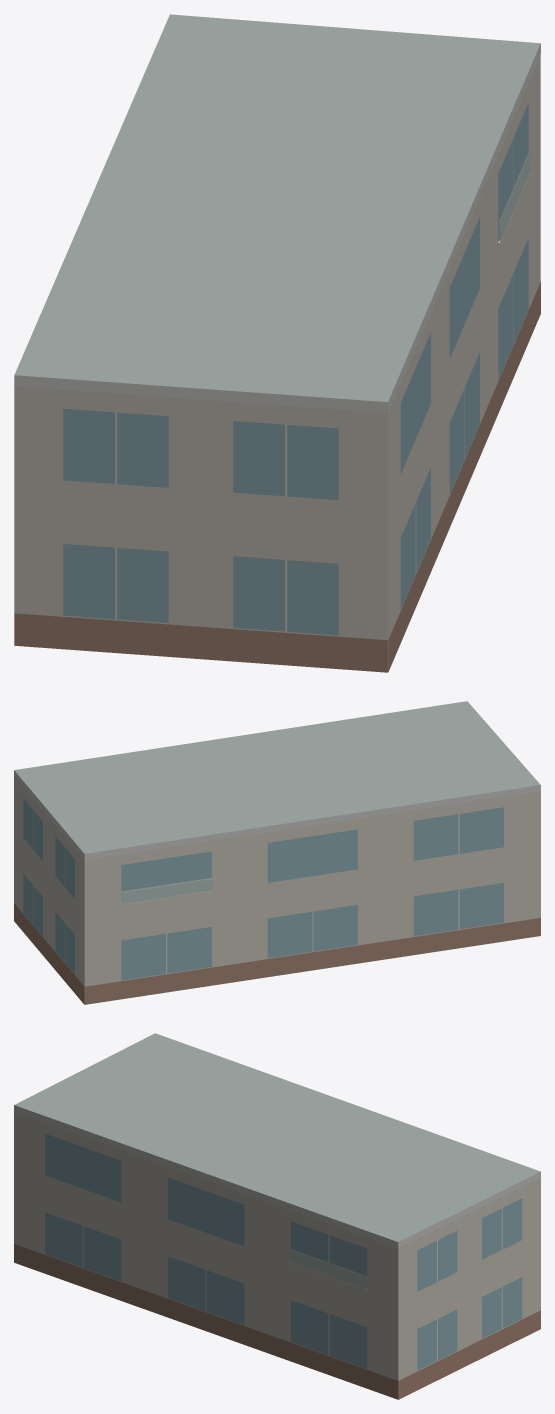
The model's file is survey-upis-32803892.glb.
The picture shows the model from 3 angles, top to bottom: view 1: azimuth 30°, elevation 25°; view 2: azimuth 150°, elevation 25°; view 3: azimuth 270°, elevation 25°; orthographic projection. The views are drawn at different scales.
Parts seen in each view (by area): view 1: survey-upis-32803892.tmp; view 2: survey-upis-32803892.tmp; view 3: survey-upis-32803892.tmp.
Boxes of the visible parts, bbox=[...] form: survey-upis-32803892.tmp: bbox=[14, 14, 540, 672]; survey-upis-32803892.tmp: bbox=[14, 701, 540, 1004]; survey-upis-32803892.tmp: bbox=[14, 1033, 540, 1399].
Size of the model in its own units: 17.36 by 6.1 by 18.49.
